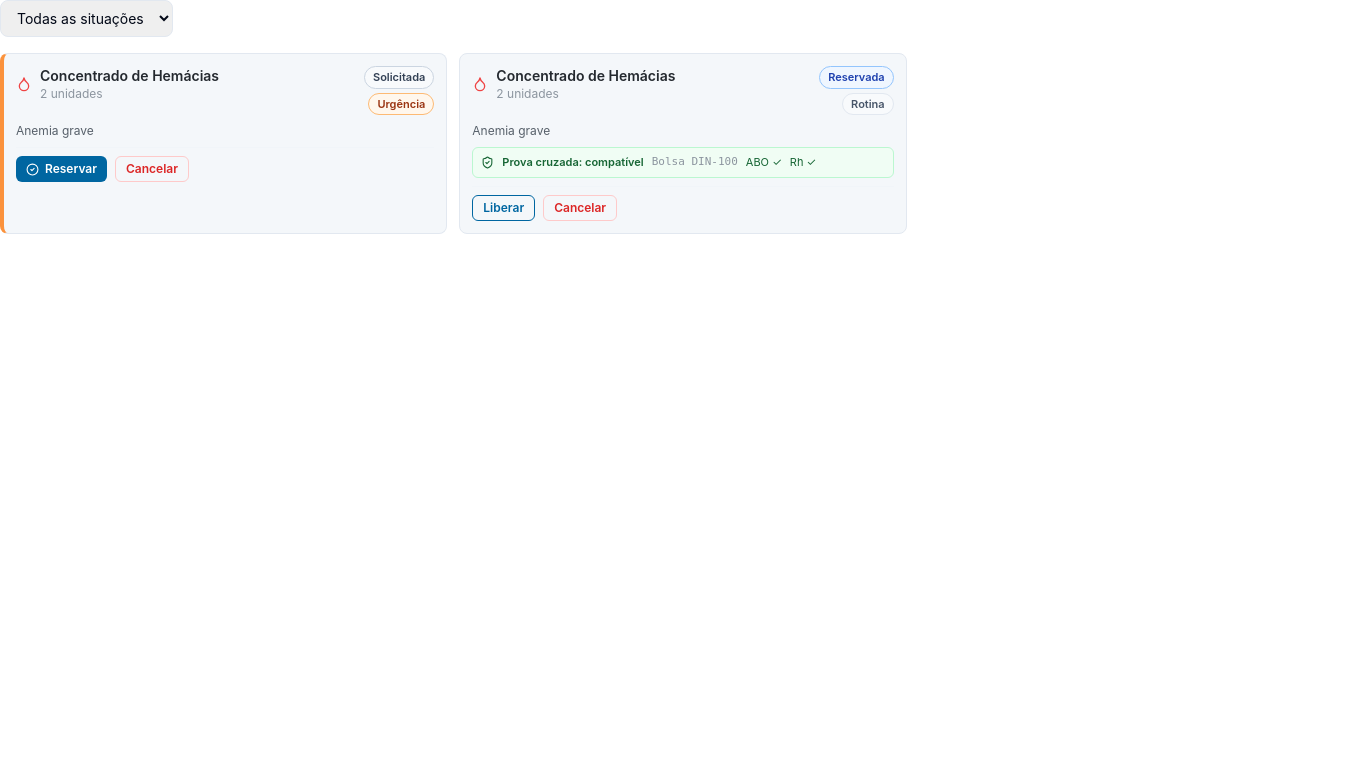
Scenario: TransfusionRequestQueue › opens the reserve modal for a solicitada request
Expected: the element named "Requisição r1" is shown, [0,53,447,234]
Click the button "Reservar": (62, 169) [16,156,107,182]
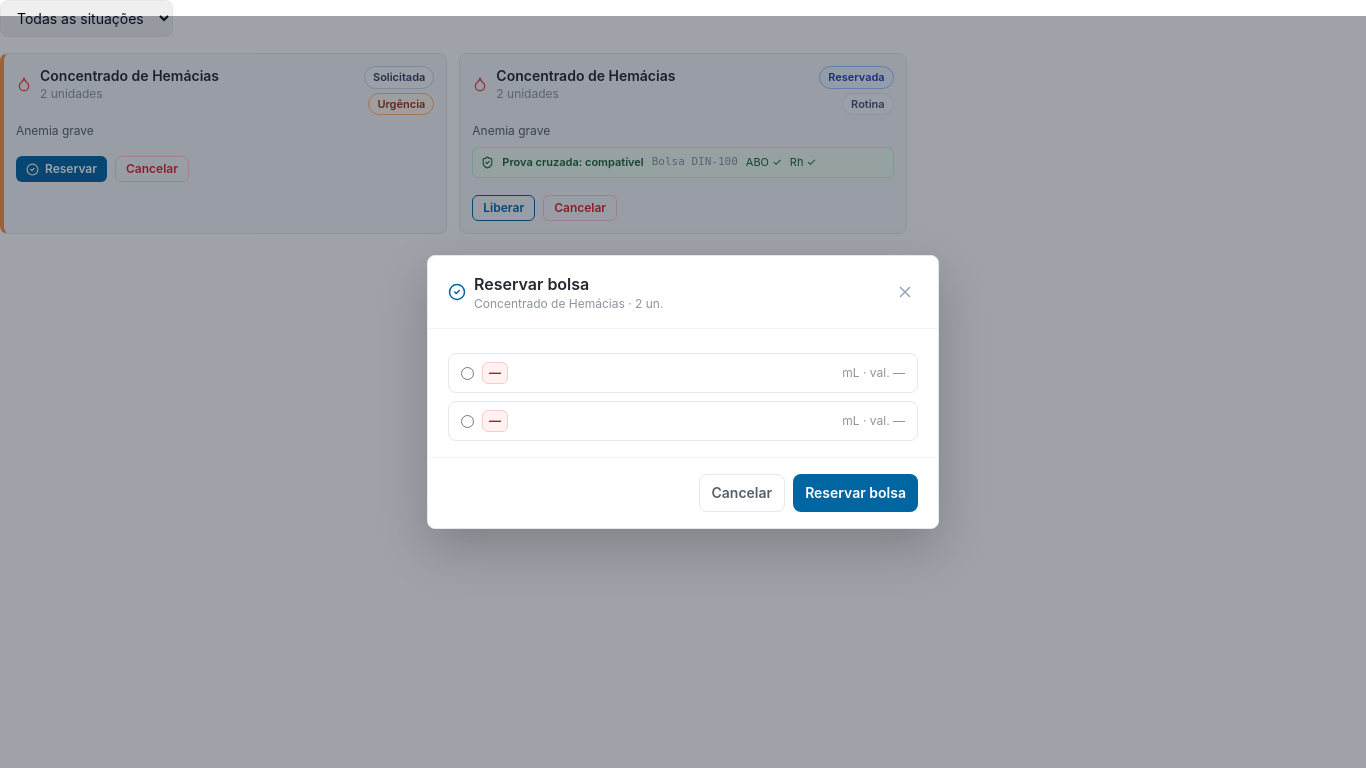
Expected: the dialog "Reservar bolsa" is shown
